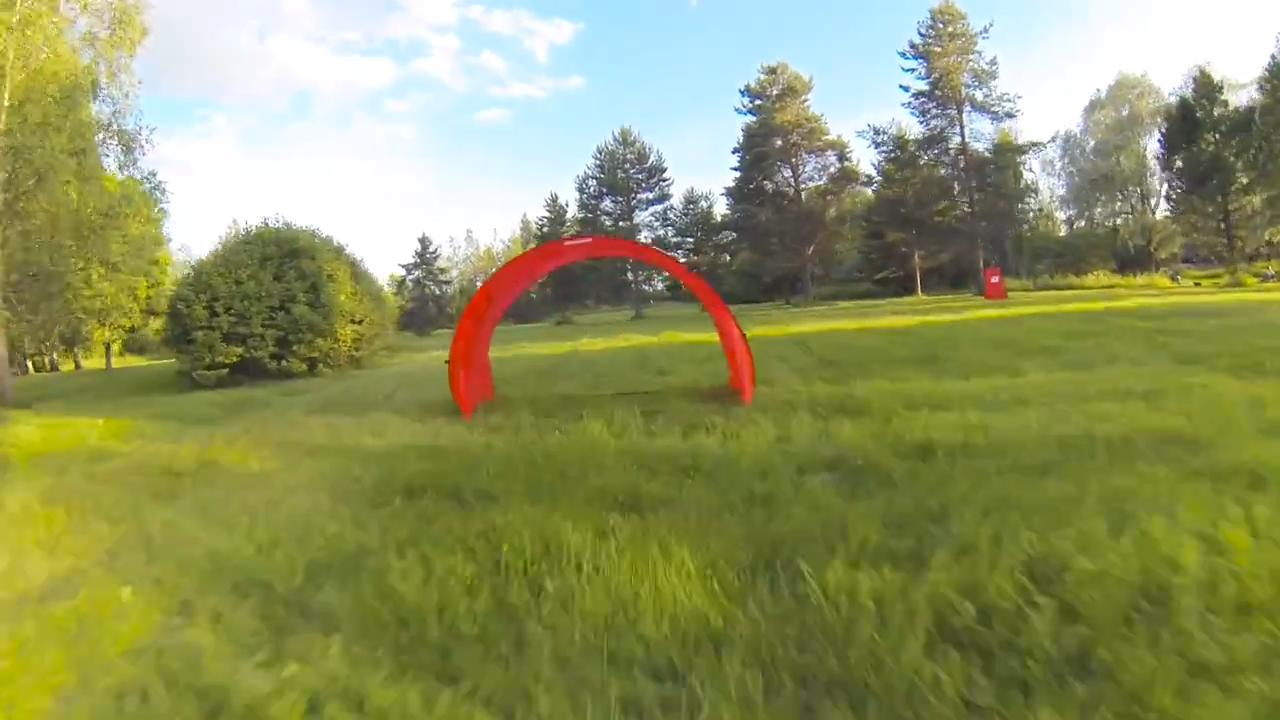gate: (436, 230, 763, 414)
